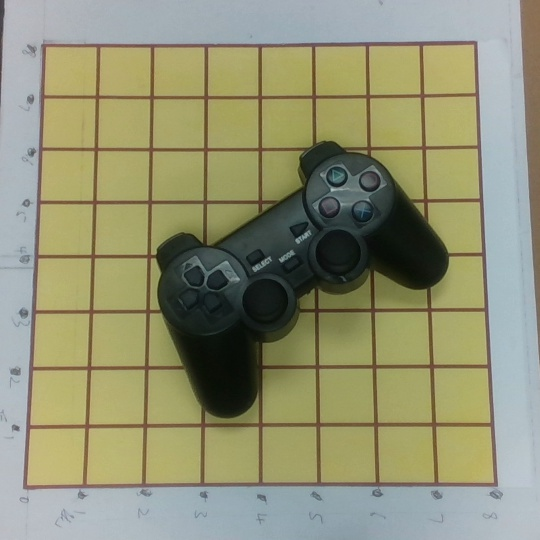remote: (153, 141, 451, 417)
